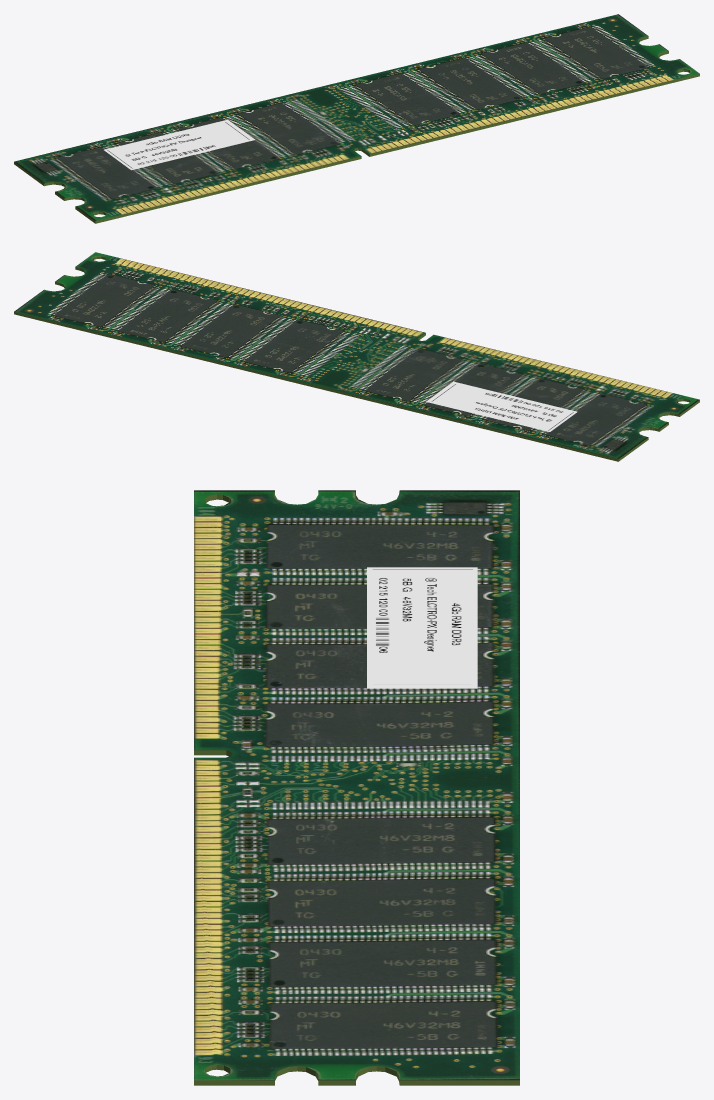
File: RAM.fbx
3 renders of one model, top to bottom at view 1: azimuth 30°, elevation 25°; view 2: azimuth 150°, elevation 25°; view 3: azimuth 270°, elevation 25°, orthographic. The views are drawn at different scales.
Visible parts, largest first — view 1: RAM; view 2: RAM; view 3: RAM.
Part boxes in pixels (left/top/right/bottom): RAM: left=14, top=14, right=699, bottom=223; RAM: left=14, top=252, right=699, bottom=461; RAM: left=194, top=490, right=519, bottom=1085.
Bounding box in the file's own units: 973 × 4.19 × 227.
